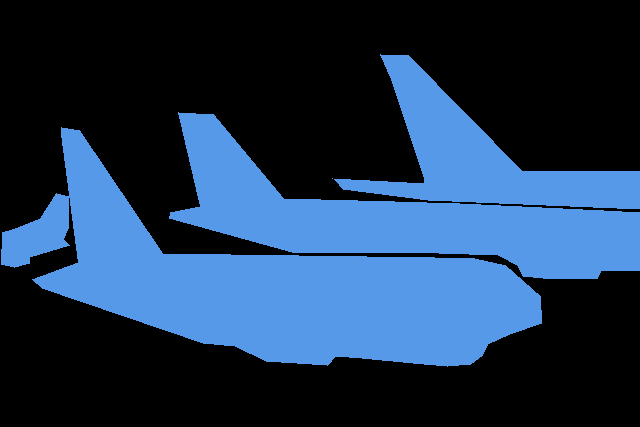Airplane: (32, 127, 542, 367), (169, 112, 640, 278), (332, 54, 640, 209), (1, 193, 70, 267)
